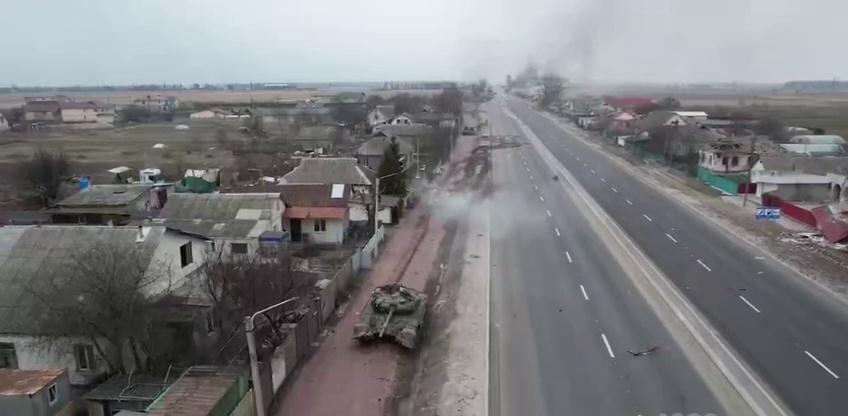tank: (352, 283, 428, 351)
